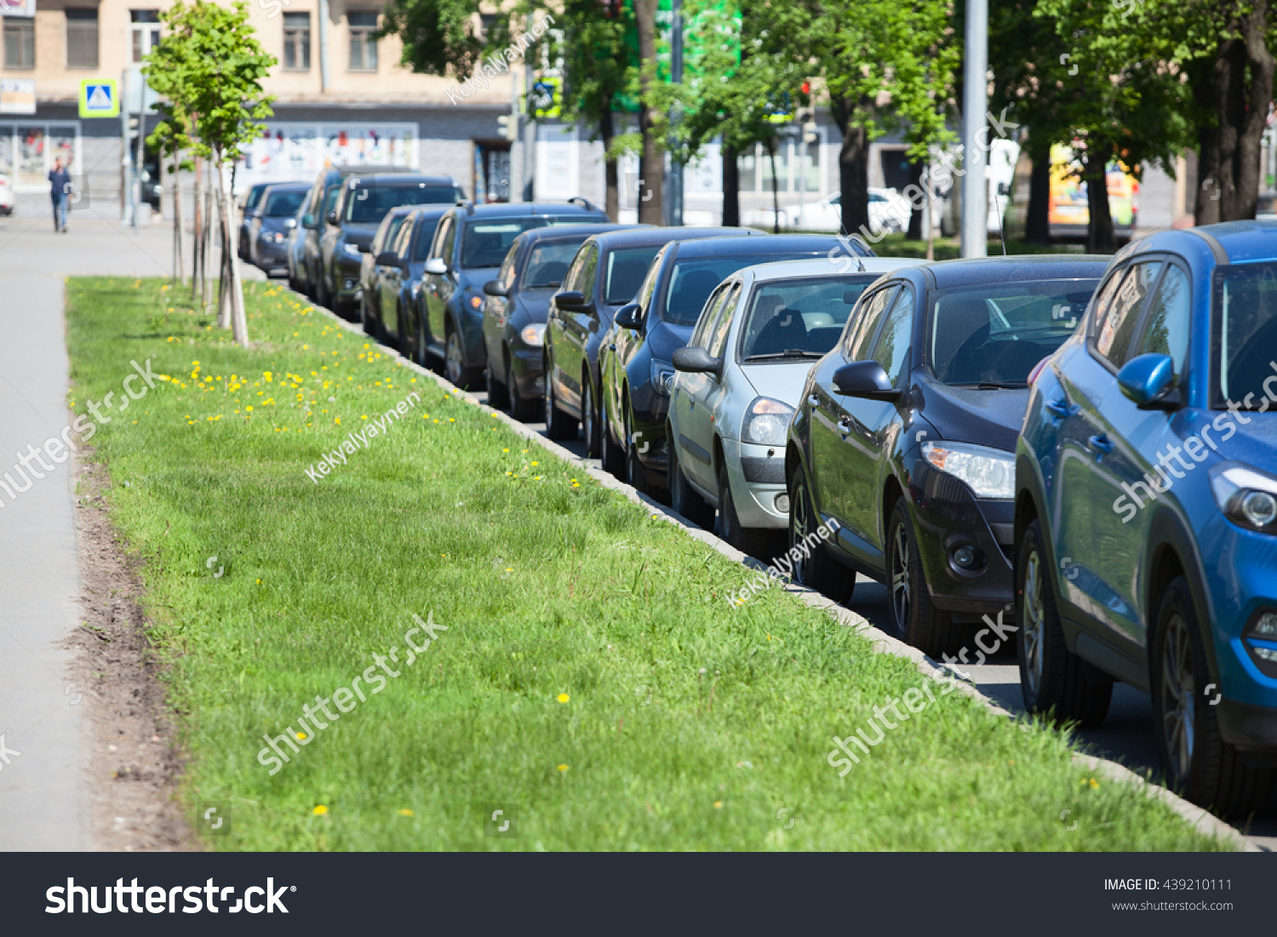Car: (812, 249, 1134, 639), (409, 198, 627, 400), (323, 170, 470, 335)
